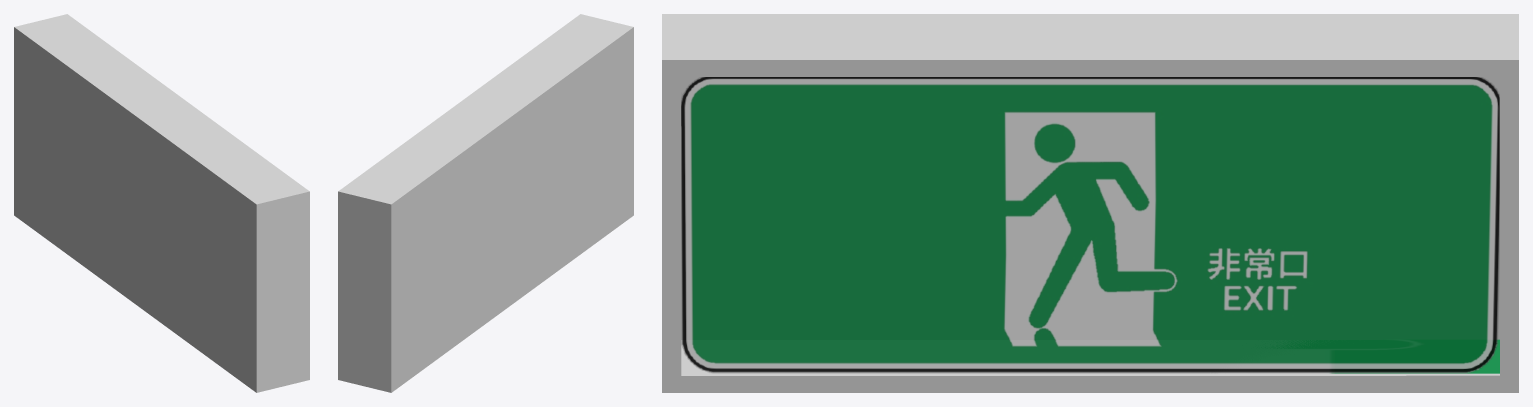
Rendered from Exit.fbx.
3 renders of one model, left to right at view 1: azimuth 30°, elevation 25°; view 2: azimuth 150°, elevation 25°; view 3: azimuth 270°, elevation 25°, orthographic. The views are drawn at different scales.
Parts seen in each view (by area): view 1: 立方体; view 2: 立方体; view 3: Cube, 立方体.
Boxes of the visible parts, x1,y1,x2,y2 form: 立方体: (14, 14, 309, 392); 立方体: (338, 14, 633, 392); Cube: (681, 77, 1499, 373); 立方体: (662, 14, 1518, 392).
Bounding box in the file's own units: 40.77 × 138 × 321.
Materials: 1 (1 with a texture image).
